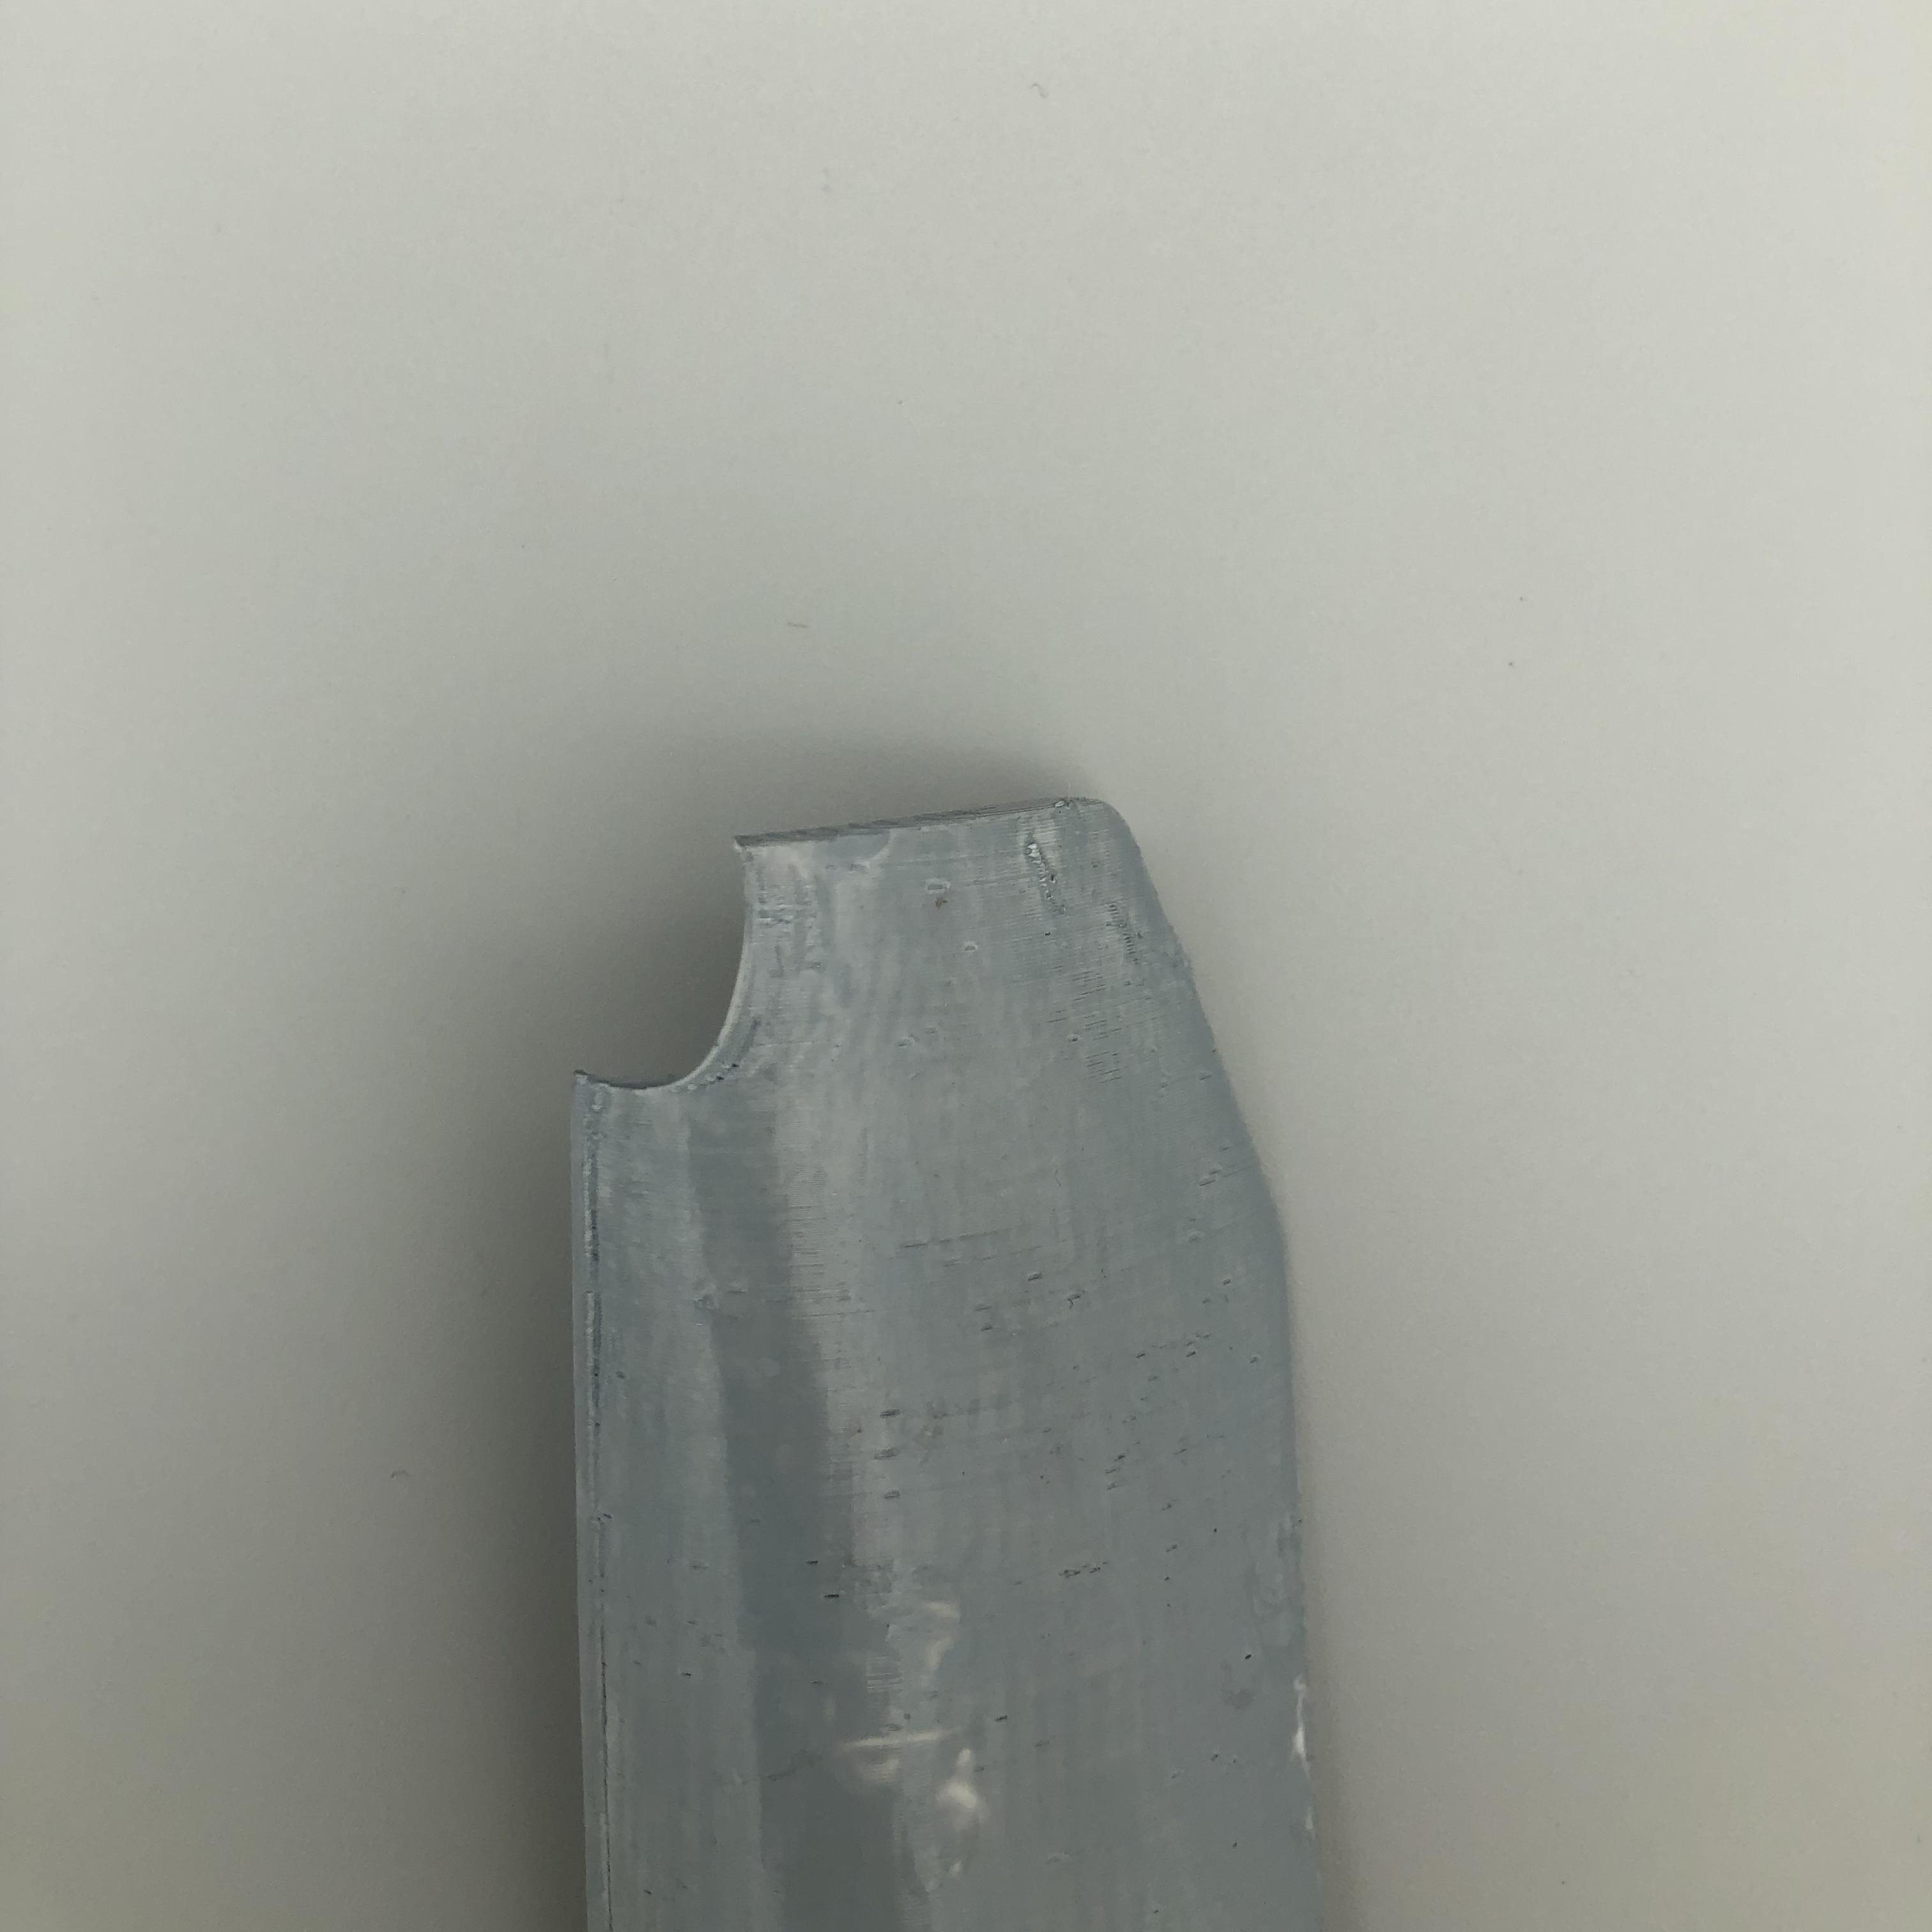fracture: (568, 842, 805, 1111)
